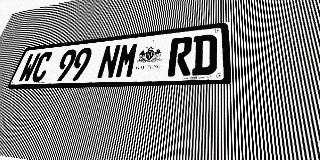9: (68, 47, 94, 81), (53, 49, 78, 81)
C: (29, 51, 54, 82)
D: (191, 34, 217, 75)
M: (114, 42, 140, 79)
N: (96, 44, 122, 79)
R: (167, 36, 193, 76)
W: (17, 53, 41, 83)
